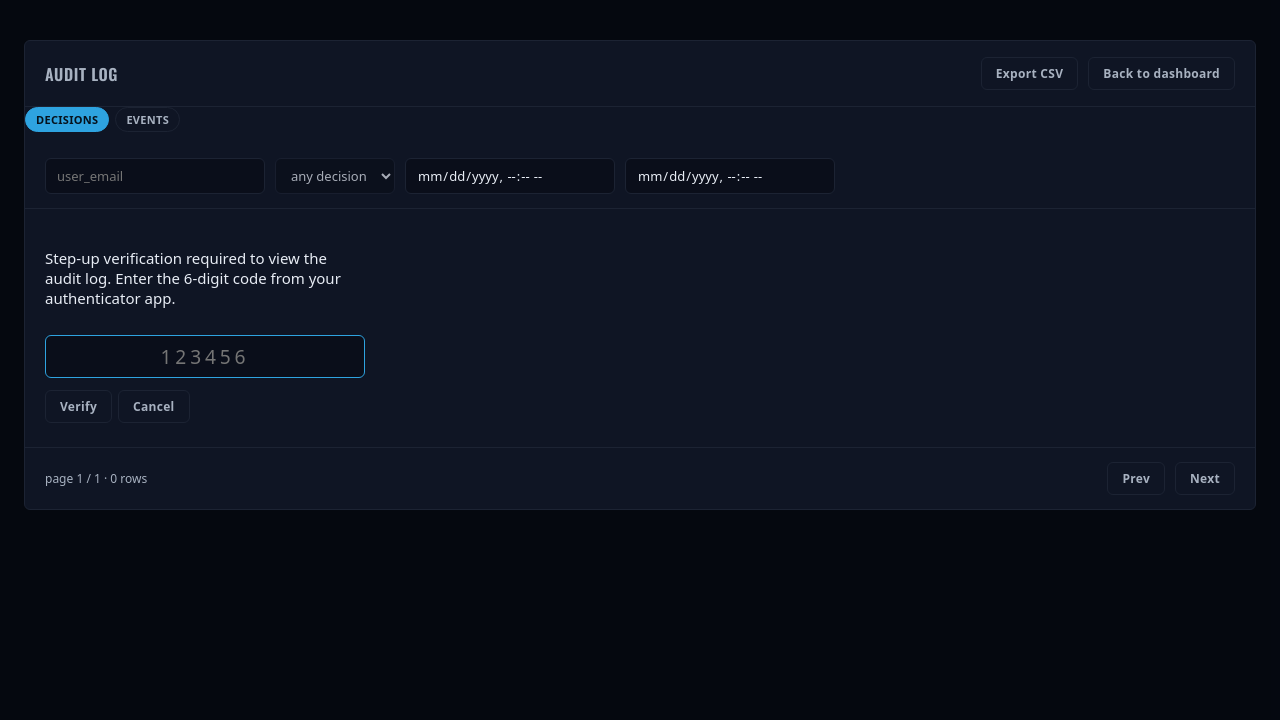
it: AuditView step-up handling › a correct code resolves the challenge and re-fetches the audit table
The image size is (1280, 720).
Type "654321" into the field with placeholder "123456". click: (205, 356)
box: [45, 335, 365, 378]
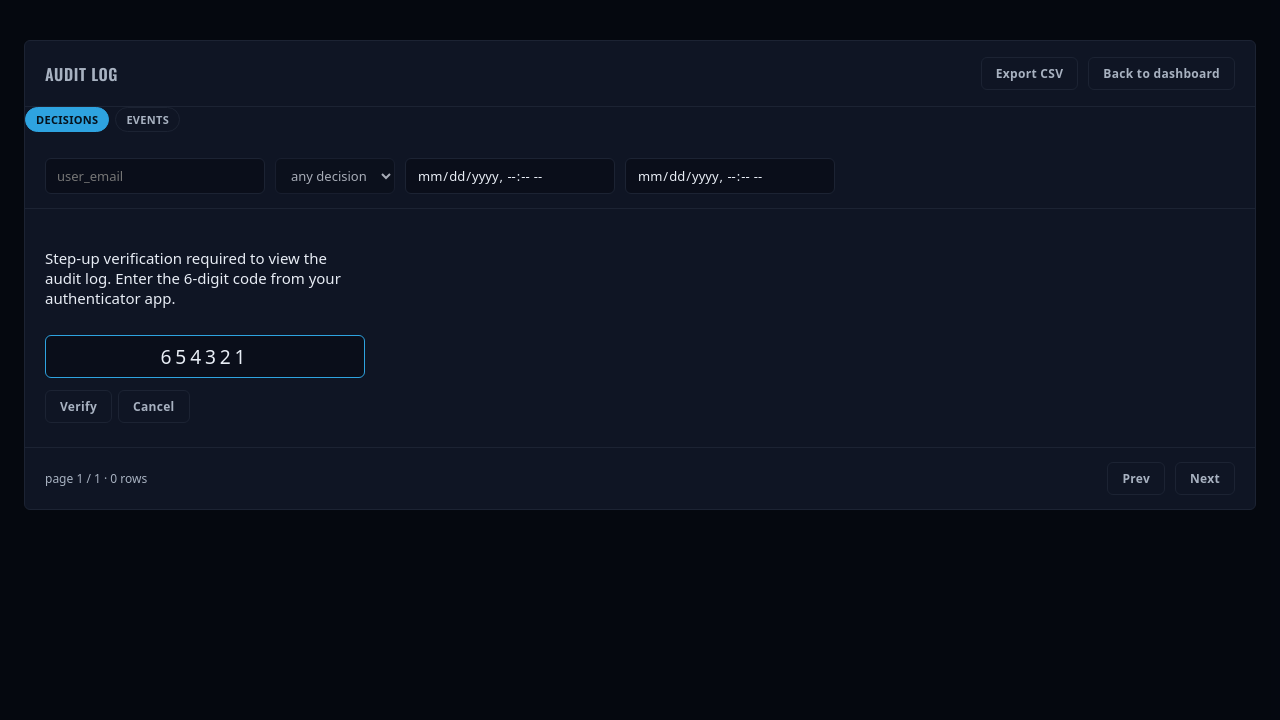
Click the button "Verify". click: (78, 406)
box: [45, 390, 112, 423]
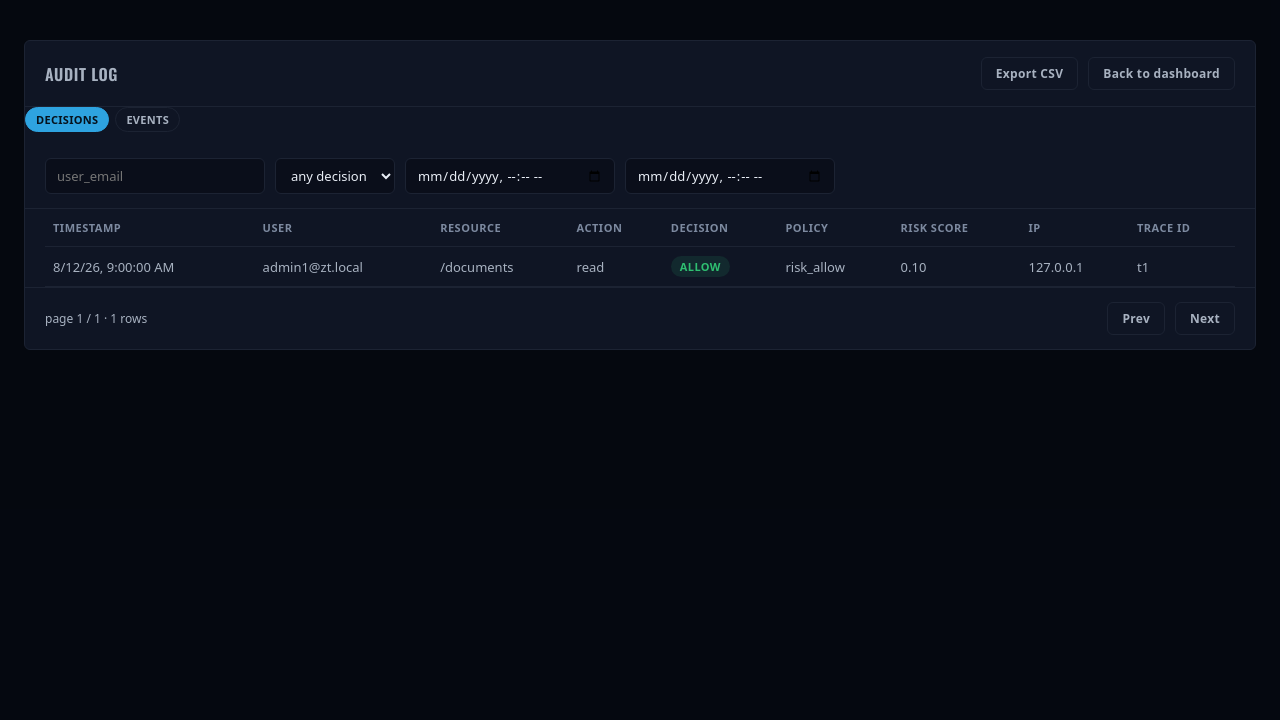
Now the text "admin1@zt.local" is shown, box [255, 246, 432, 286]
